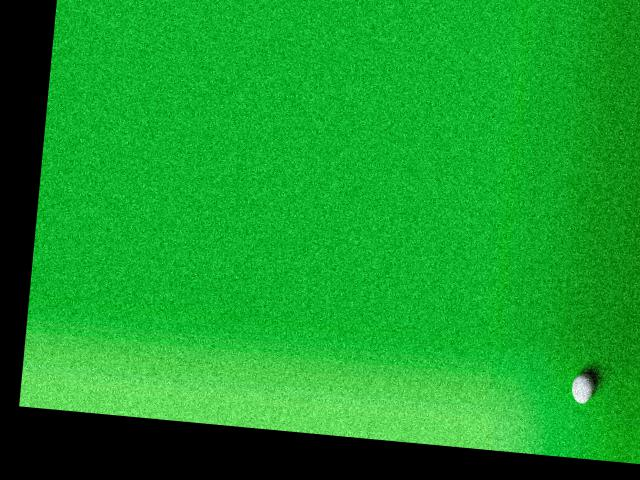egg: (570, 372, 594, 404)
